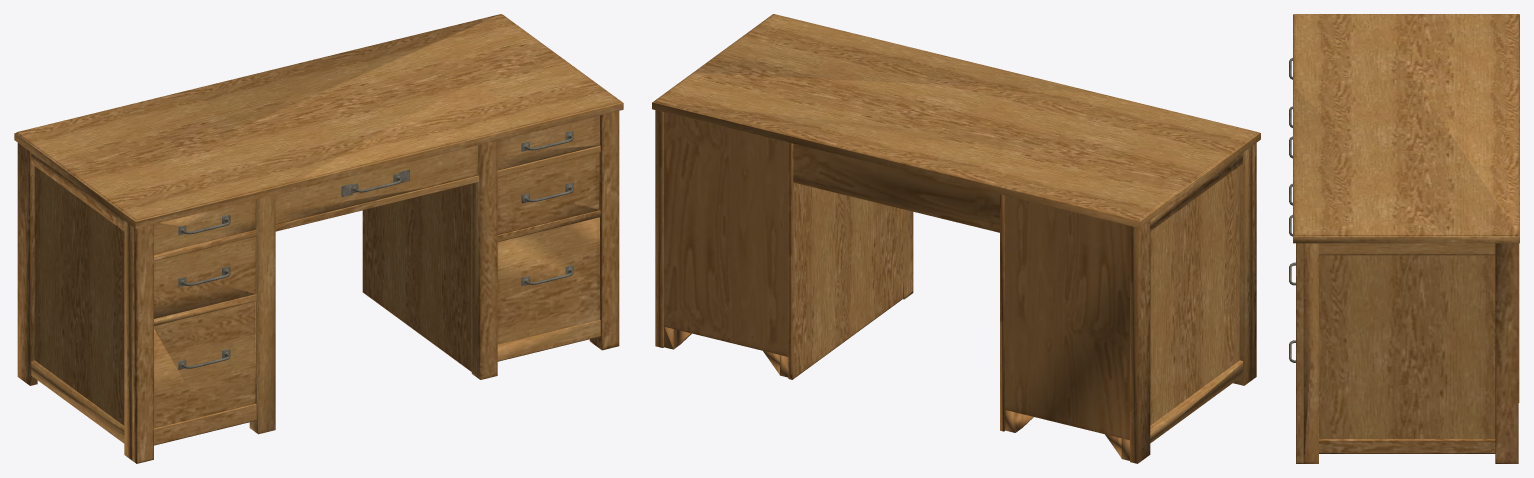
The model's file is B075Z93NHP.glb.
3 views of the same model, side by side, from view 1: azimuth 30°, elevation 25°; view 2: azimuth 150°, elevation 25°; view 3: azimuth 270°, elevation 25° (orthographic). The views are drawn at different scales.
Parts seen in each view (by area): view 1: RootNode; view 2: RootNode; view 3: RootNode.
Boxes of the visible parts, box(x1,y1,x2,y2) form: RootNode: box(14, 14, 623, 463); RootNode: box(652, 14, 1260, 463); RootNode: box(1289, 14, 1519, 463).
Size of the model in its own units: 1.57 by 0.7505 by 0.6849.
1 material, 1 textured.
